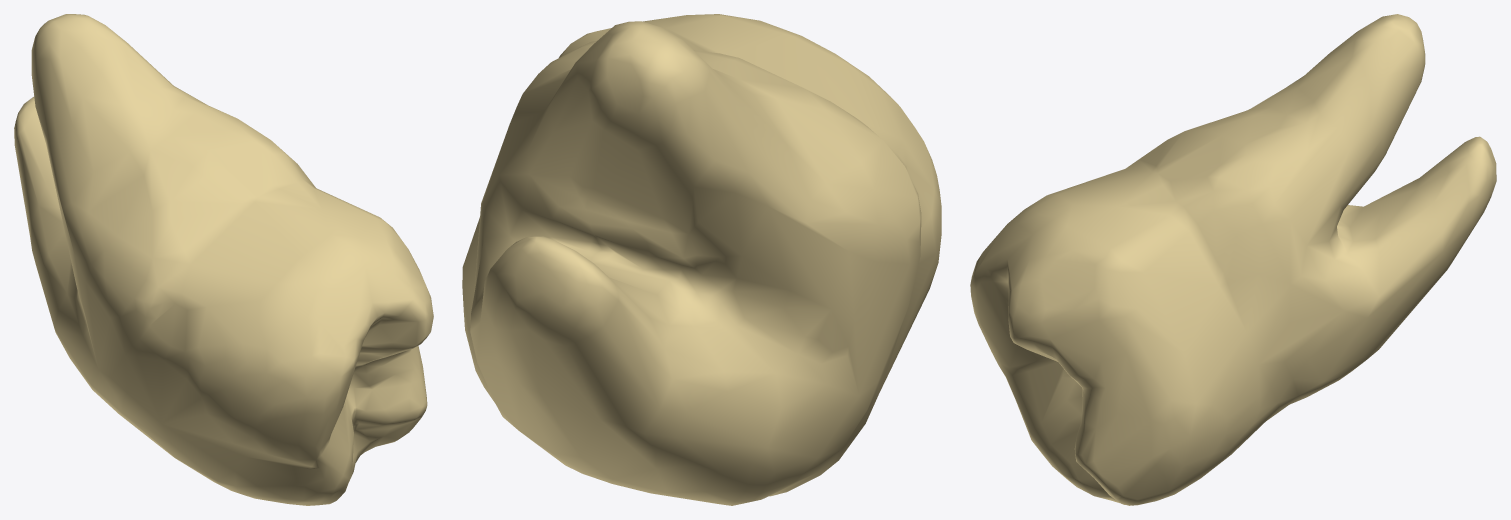
3 renders of one model, left to right at view 1: azimuth 30°, elevation 25°; view 2: azimuth 150°, elevation 25°; view 3: azimuth 270°, elevation 25°, orthographic. The views are drawn at different scales.
Visible parts, largest first — view 1: 右侧下颌第二磨牙; view 2: 右侧下颌第二磨牙; view 3: 右侧下颌第二磨牙.
Part boxes in pixels (<box>): 右侧下颌第二磨牙: <box>14,14,433,505</box>; 右侧下颌第二磨牙: <box>462,14,941,505</box>; 右侧下颌第二磨牙: <box>970,14,1496,505</box>.
Size of the model in its own units: 0.0174 by 0.0238 by 0.0269.
